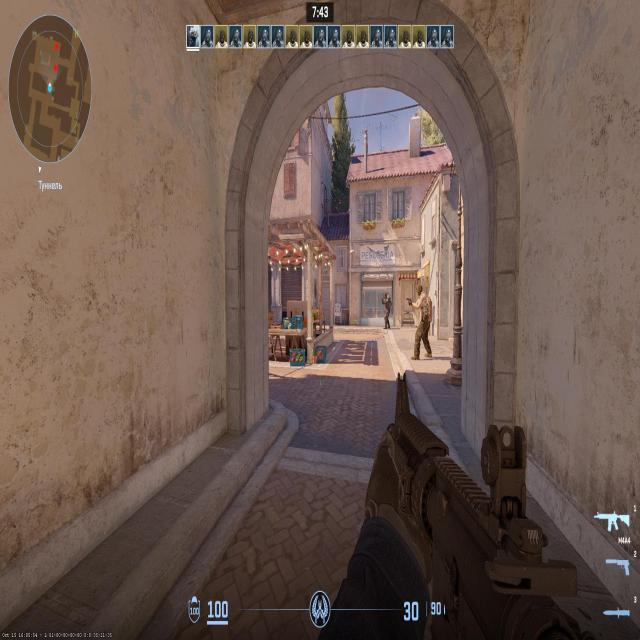CT: (386, 291, 390, 333)
CT_heat: (386, 294, 389, 300)
T: (417, 290, 428, 352)
T_heat: (418, 290, 424, 298)
